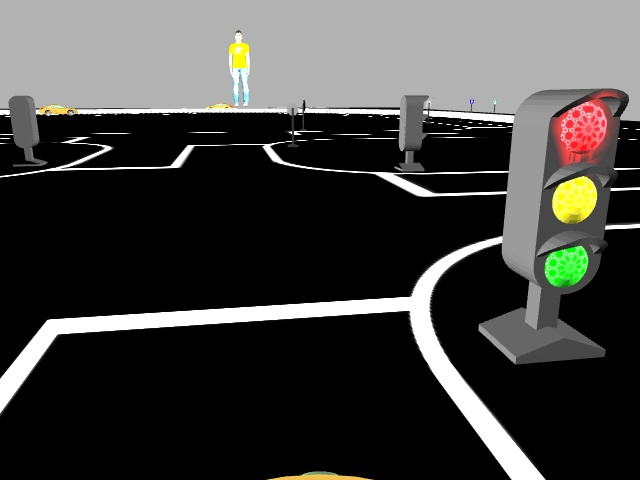TrafficLight: (509, 85, 617, 299)
